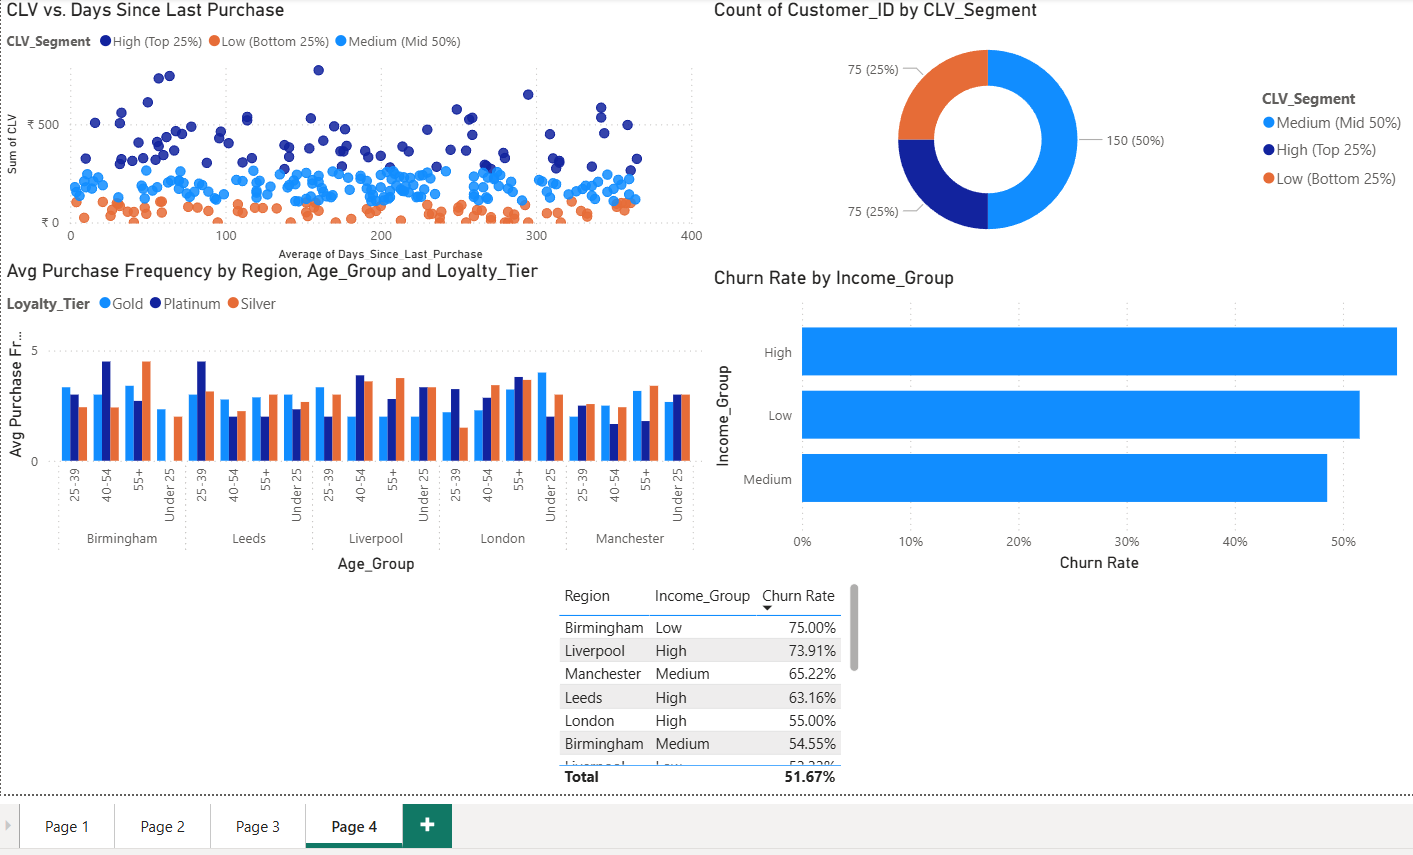

The page's visual inventory and layout, read from the dashboard file:
{"tool":"powerbi","page":{"name":"Page 4","canvas":[1280,720],"ordinal":3},"visuals":[{"type":"scatterChart","title":"CLV vs. Days Since Last Purchase","fields":{"X":["Avg(Churn_Labelled_Customers.Days_Since_Last_Purchase)"],"Category":["Customer_Demographics.Customer_ID"],"Y":["Sum(Customer_Demographics.CLV)"],"Series":["Customer_Demographics.CLV_Segment"]},"box":[0,0,639.5,243],"z":0},{"type":"clusteredBarChart","fields":{"Category":["Customer_Demographics.Income_Group"],"Y":["Customer_Demographics.Churn Rate"]},"box":[640,243.5,640,281],"z":1000},{"type":"tableEx","fields":{"Values":["Customer_Demographics.Region","Customer_Demographics.Income_Group","Customer_Demographics.Churn Rate"]},"box":[498.1,524.5,282.4,194.8],"z":2000},{"type":"donutChart","fields":{"Category":["Customer_Demographics.CLV_Segment"],"Y":["CountNonNull(Customer_Demographics.Customer_ID)"]},"box":[639.5,0,640.7,237.2],"z":3000},{"type":"slicer","fields":{"Values":["Store_Locations.Store_Type"]},"box":[951.7,0,328.3,176.7],"z":4000},{"type":"slicer","fields":{"Values":["Loyalty_Program.Loyalty_Tier"]},"box":[640,0,311.7,176.7],"z":5000},{"type":"slicer","fields":{"Values":["Customer_Demographics.Income_Group"]},"box":[331.1,0,308.9,176.7],"z":6000},{"type":"slicer","fields":{"Values":["Customer_Demographics.Region"]},"box":[25,0,306.1,176.7],"z":7000},{"type":"clusteredColumnChart","fields":{"Y":["Customer_Demographics.Avg Purchase Frequency"],"Category":["Customer_Demographics.Region","Customer_Demographics.Age_Group"],"Series":["Loyalty_Program.Loyalty_Tier"]},"box":[0,236.5,640,288],"z":8000}]}

Visuals, with their boxes on the page's 1280x720 design canvas (x1, y1, x2, y2). These are canvas units, not pixel positions in the 1413x855 screenshot, which may show the page scaled, cropped or inside an application window:
"CLV vs. Days Since Last Purchase" scatterChart: select_region(0, 0, 640, 243)
clusteredBarChart - Customer_Demographics.Income_Group x Customer_Demographics.Churn Rate: select_region(640, 244, 1280, 524)
tableEx - Customer_Demographics.Region x Customer_Demographics.Income_Group: select_region(498, 524, 780, 719)
donutChart - Customer_Demographics.CLV_Segment x CountNonNull(Customer_Demographics.Customer_ID): select_region(640, 0, 1280, 237)
slicer - Store_Locations.Store_Type: select_region(952, 0, 1280, 177)
slicer - Loyalty_Program.Loyalty_Tier: select_region(640, 0, 952, 177)
slicer - Customer_Demographics.Income_Group: select_region(331, 0, 640, 177)
slicer - Customer_Demographics.Region: select_region(25, 0, 331, 177)
clusteredColumnChart - Customer_Demographics.Avg Purchase Frequency x Customer_Demographics.Region: select_region(0, 236, 640, 524)
